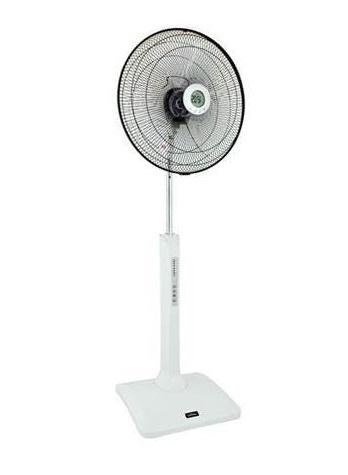fan: (95, 2, 253, 461)
